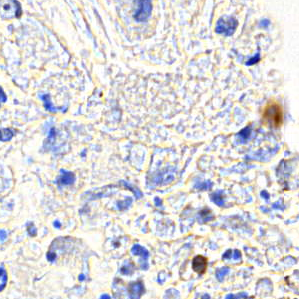Lymphocyte: (191, 253, 209, 277)
